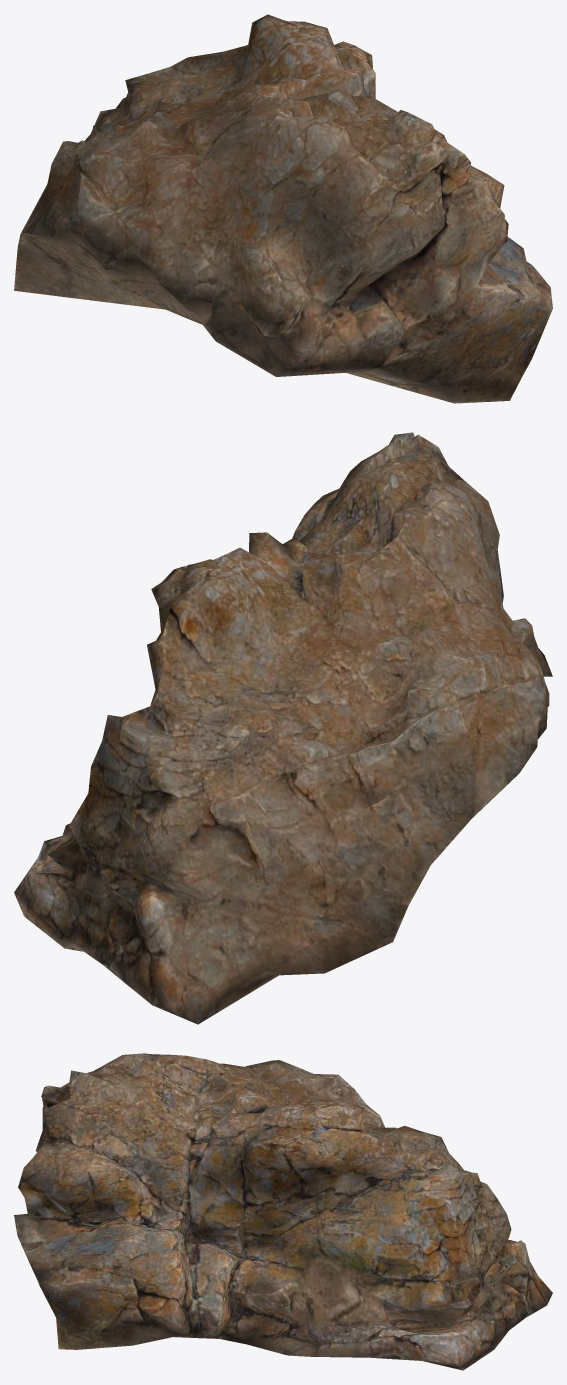
File: boulder_01.glb
3 views of the same model, one above another, from view 1: azimuth 30°, elevation 25°; view 2: azimuth 150°, elevation 25°; view 3: azimuth 270°, elevation 25° (orthographic). The views are drawn at different scales.
Visible parts, largest first — view 1: boulder_01_lo; view 2: boulder_01_lo; view 3: boulder_01_lo.
Part boxes in pixels (x1=…): boulder_01_lo: x1=14, y1=14, x2=552, y2=403; boulder_01_lo: x1=14, y1=432, x2=552, y2=1024; boulder_01_lo: x1=14, y1=1053, x2=552, y2=1370.
Bounding box in the file's own units: 1.27 × 1 × 1.83.
Materials: 1 (1 with a texture image).
